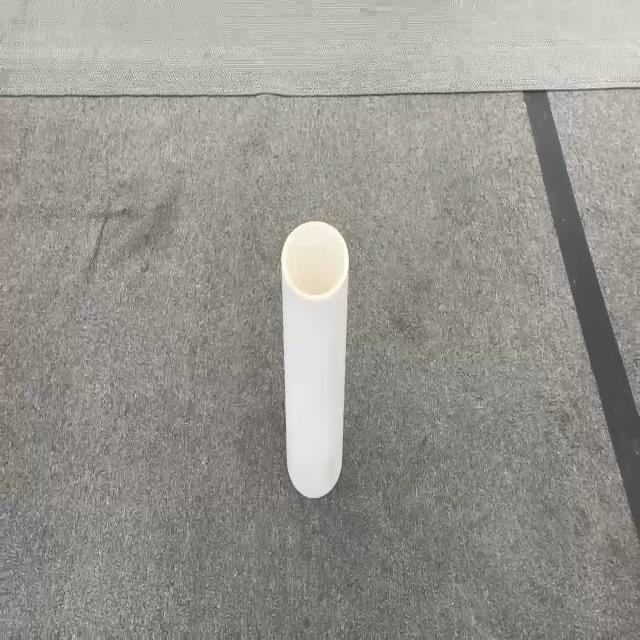coral: (280, 218, 350, 498)
